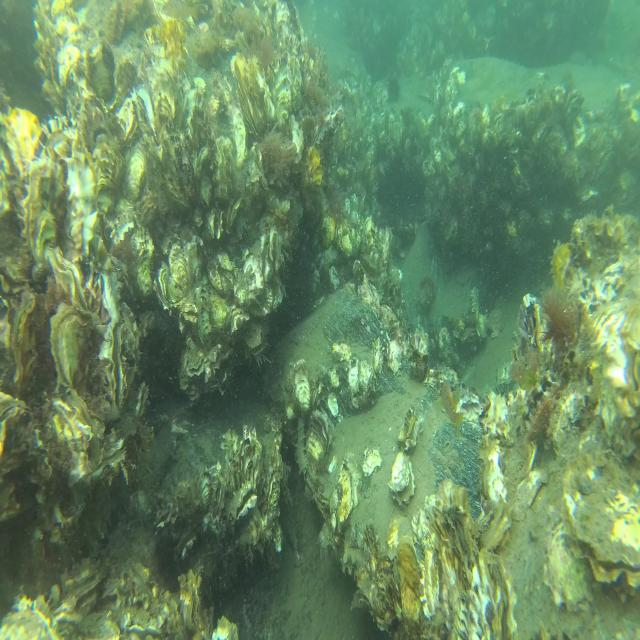echinus: (387, 79, 401, 104)
holothurian: (296, 417, 308, 476)
